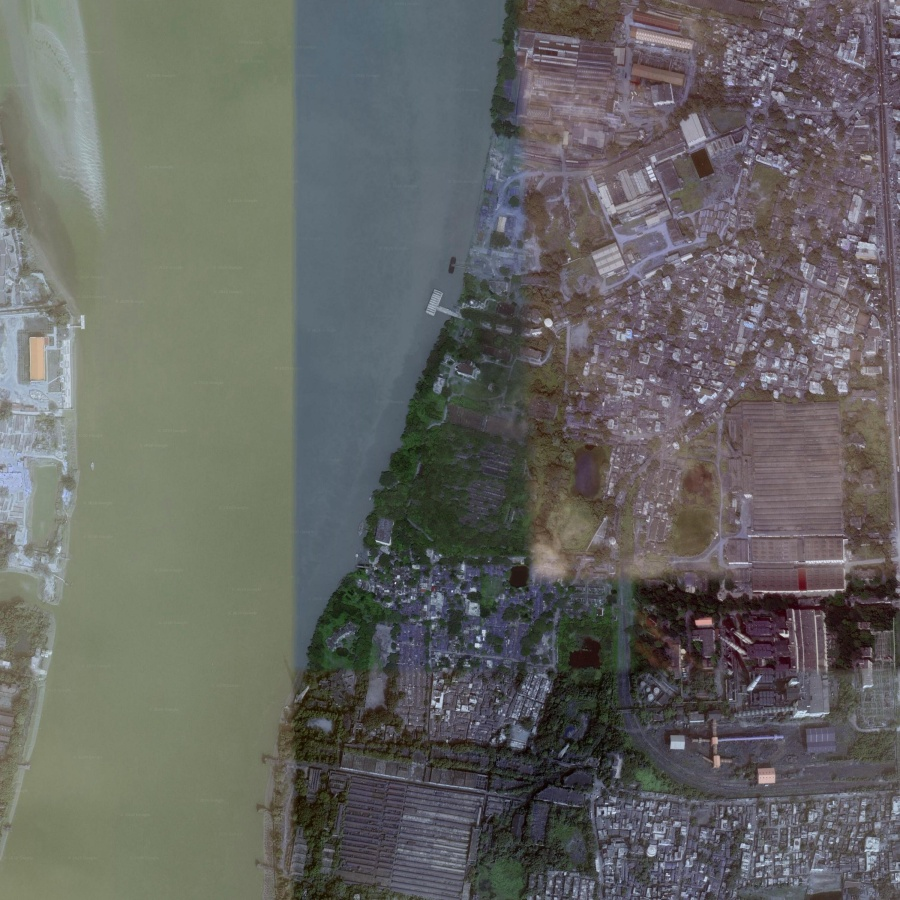PowerPlant: (624, 544, 869, 783)
